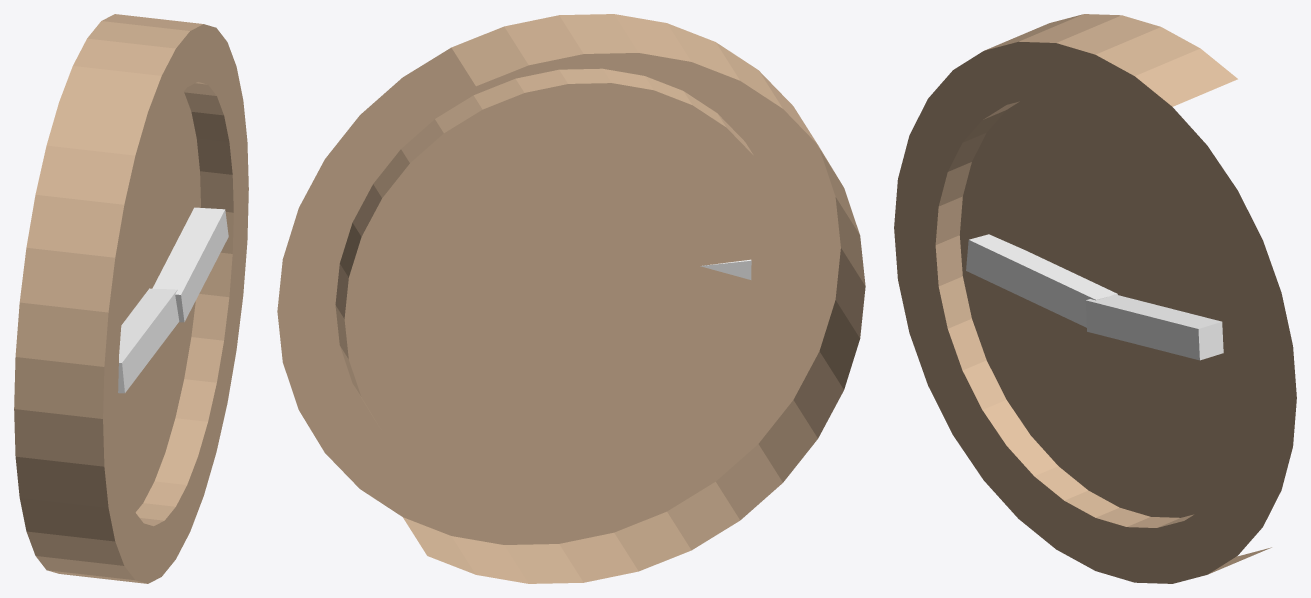
Rendered from Clock.gltf.
3 views of the same model, side by side, from view 1: azimuth 30°, elevation 25°; view 2: azimuth 150°, elevation 25°; view 3: azimuth 270°, elevation 25° (orthographic). The views are drawn at different scales.
Visible parts, largest first — view 1: Clock, HourHand, MinuteHand; view 2: Clock; view 3: Clock, MinuteHand, HourHand.
Part boxes in pixels (bbox=[...]): Clock: bbox=[14, 14, 248, 583]; HourHand: bbox=[152, 207, 228, 322]; MinuteHand: bbox=[118, 288, 179, 393]; Clock: bbox=[277, 14, 865, 583]; Clock: bbox=[894, 14, 1296, 583]; MinuteHand: bbox=[966, 234, 1117, 327]; HourHand: bbox=[1085, 294, 1223, 360].
Size of the model in its own units: 0.903 by 1.1 by 0.7763.
